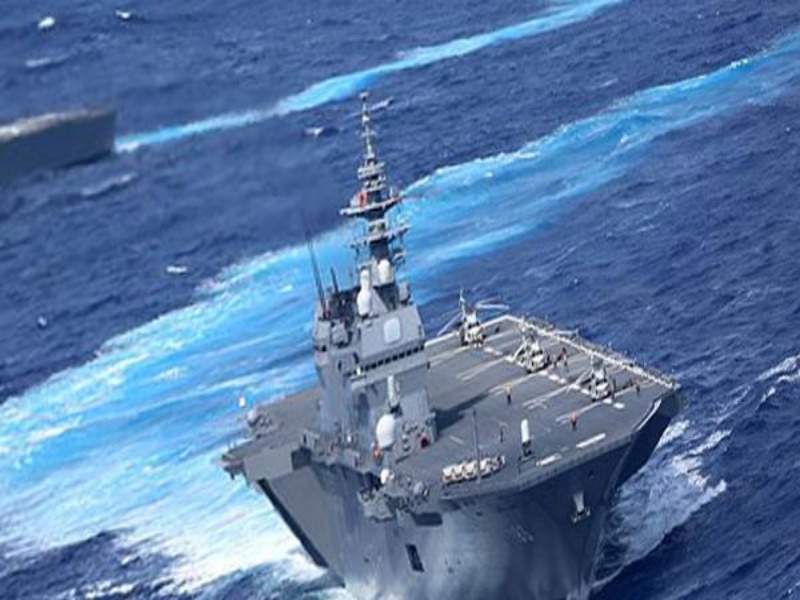carrier: (264, 127, 647, 595)
